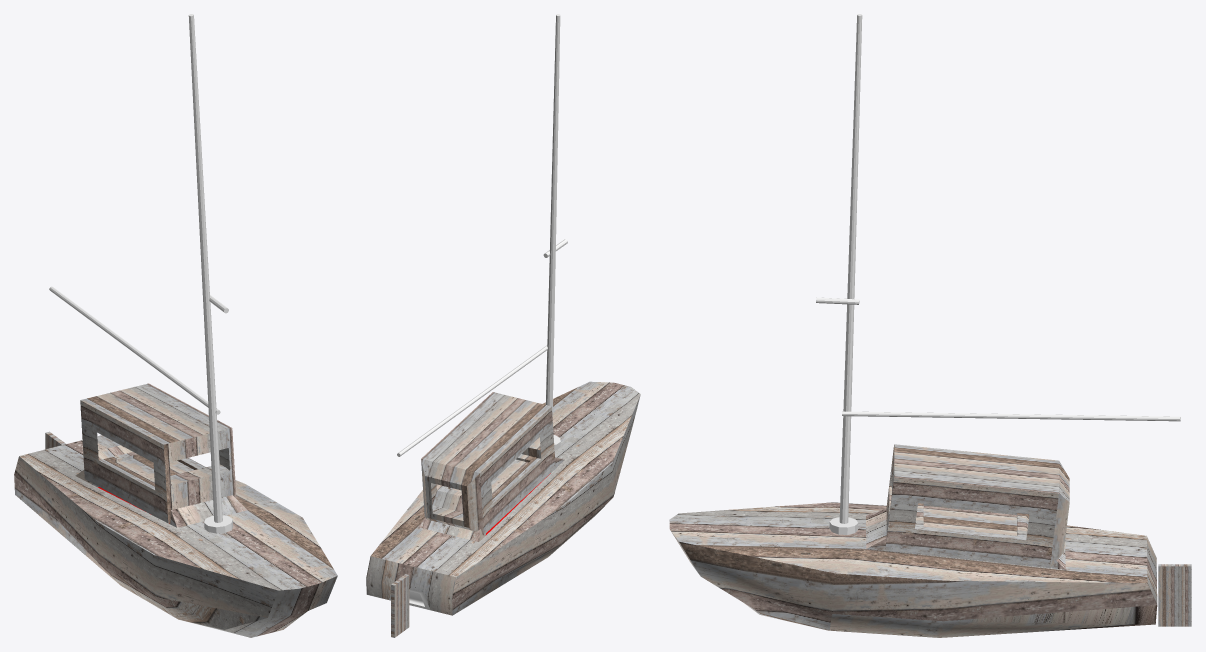
File: Boat.fbx
3 views of the same model, side by side, from view 1: azimuth 30°, elevation 25°; view 2: azimuth 150°, elevation 25°; view 3: azimuth 270°, elevation 25° (orthographic). The views are drawn at different scales.
Visible parts, largest first — view 1: Boat, Haus, Steuer; view 2: Boat, Haus, Steuer, Cube; view 3: Boat, Haus, Steuer, Cube.
Part boxes in pixels (x1,y1,x2,y2): Boat: (14,435,337,637); Haus: (80,383,236,523); Steuer: (49,14,233,533); Boat: (366,381,640,615); Haus: (421,392,555,535); Steuer: (397,14,567,456); Cube: (391,574,409,637); Boat: (669,502,1157,637); Haus: (885,444,1069,568); Steuer: (816,14,1180,534); Cube: (1158,564,1191,626).
Size of the model in its own units: 10.3 by 39.88 by 31.47.
Materials: 5 (2 with a texture image).
